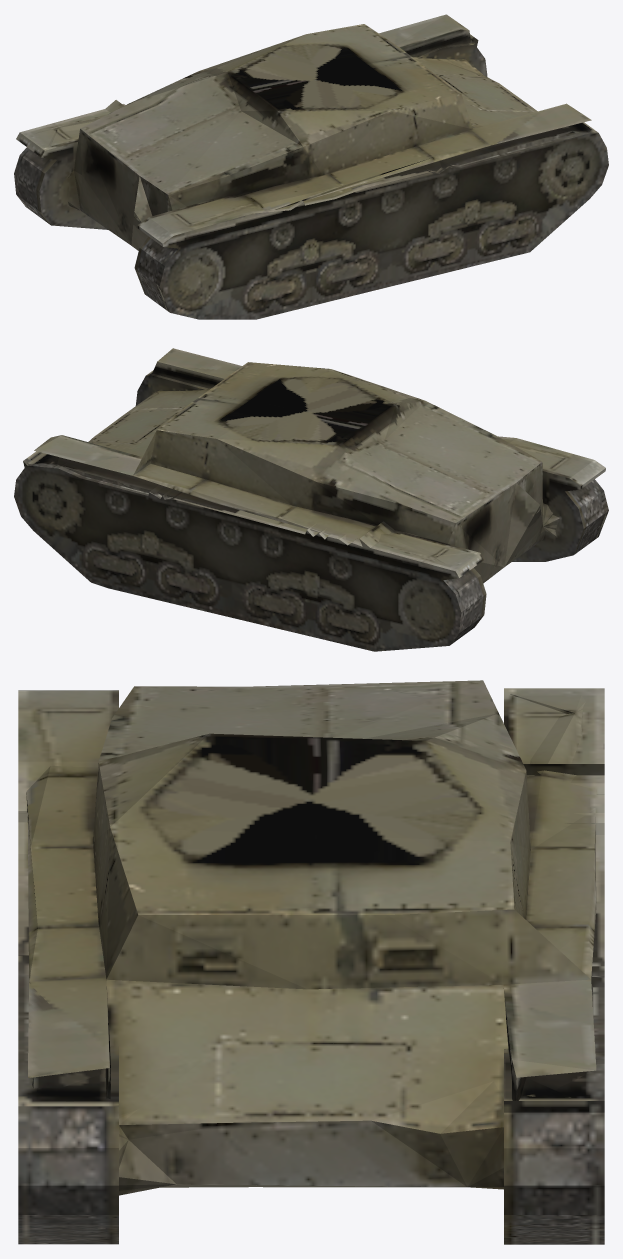
File: hull.obj
3 views of the same model, one above another, from view 1: azimuth 30°, elevation 25°; view 2: azimuth 150°, elevation 25°; view 3: azimuth 270°, elevation 25° (orthographic). The views are drawn at different scales.
Bounding box in the file's own units: 1.01 × 0.3357 × 0.57.
1 material, 1 textured.
